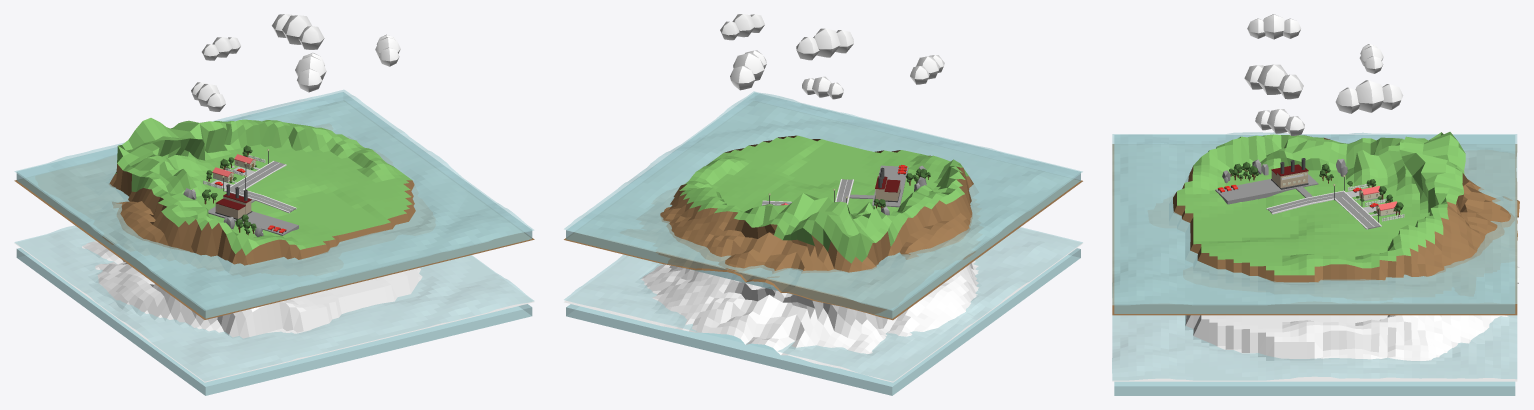
3 views of the same model, side by side, from view 1: azimuth 30°, elevation 25°; view 2: azimuth 150°, elevation 25°; view 3: azimuth 270°, elevation 25° (orthographic). The views are drawn at different scales.
Visible parts, largest first — view 1: Plane, Cube, Plane.2, Iceberg, Waves.2, Water.2, Cloud.3, Cloud.1, Tube.3, Cube.20, Cloud, Cloud.2 (+1 smaller); view 2: Plane, Cube, Plane.2, Iceberg, Waves.2, Water.2, Cloud.1, Cloud.3, Cloud.4, Cloud, Cloud.2, Tube.3 (+1 smaller); view 3: Plane, Cube, Plane.2, Iceberg, Waves.2, Water.2, Cloud.3, Cloud.1, Cube.20, Cloud, Cloud.4, Tube.3 (+2 smaller).
Boxes of the visible parts, bbox=[...] form: Plane: bbox=[14, 118, 534, 319]; Cube: bbox=[16, 92, 532, 318]; Plane.2: bbox=[14, 89, 533, 310]; Iceberg: bbox=[14, 227, 534, 382]; Waves.2: bbox=[14, 225, 533, 381]; Water.2: bbox=[16, 248, 532, 395]; Cloud.3: bbox=[272, 14, 324, 49]; Cloud.1: bbox=[295, 53, 326, 92]; Tube.3: bbox=[215, 184, 252, 219]; Cube.20: bbox=[208, 206, 298, 235]; Cloud: bbox=[191, 82, 225, 111]; Cloud.2: bbox=[202, 37, 240, 60]; Plane: bbox=[564, 135, 1082, 320]; Cube: bbox=[566, 92, 1080, 318]; Plane.2: bbox=[564, 91, 1082, 310]; Iceberg: bbox=[564, 228, 1082, 382]; Waves.2: bbox=[564, 227, 1082, 381]; Water.2: bbox=[566, 248, 1080, 395]; Cloud.1: bbox=[796, 28, 853, 60]; Cloud.3: bbox=[730, 50, 766, 90]; Cloud.4: bbox=[720, 14, 764, 40]; Cloud: bbox=[910, 55, 944, 84]; Cloud.2: bbox=[802, 76, 843, 99]; Tube.3: bbox=[874, 167, 900, 202]; Plane: bbox=[1112, 132, 1519, 315]; Cube: bbox=[1114, 135, 1515, 313]; Plane.2: bbox=[1112, 132, 1517, 305]; Iceberg: bbox=[1112, 266, 1519, 381]; Waves.2: bbox=[1112, 315, 1517, 380]; Water.2: bbox=[1114, 381, 1515, 395]; Cloud.3: bbox=[1335, 80, 1403, 113]; Cloud.1: bbox=[1244, 64, 1303, 99]; Cube.20: bbox=[1215, 174, 1318, 204]; Cloud: bbox=[1247, 14, 1301, 39]; Cloud.4: bbox=[1255, 109, 1304, 135]; Tube.3: bbox=[1271, 158, 1308, 189].
Size of the model in its own units: 5003 by 3490 by 5034.
